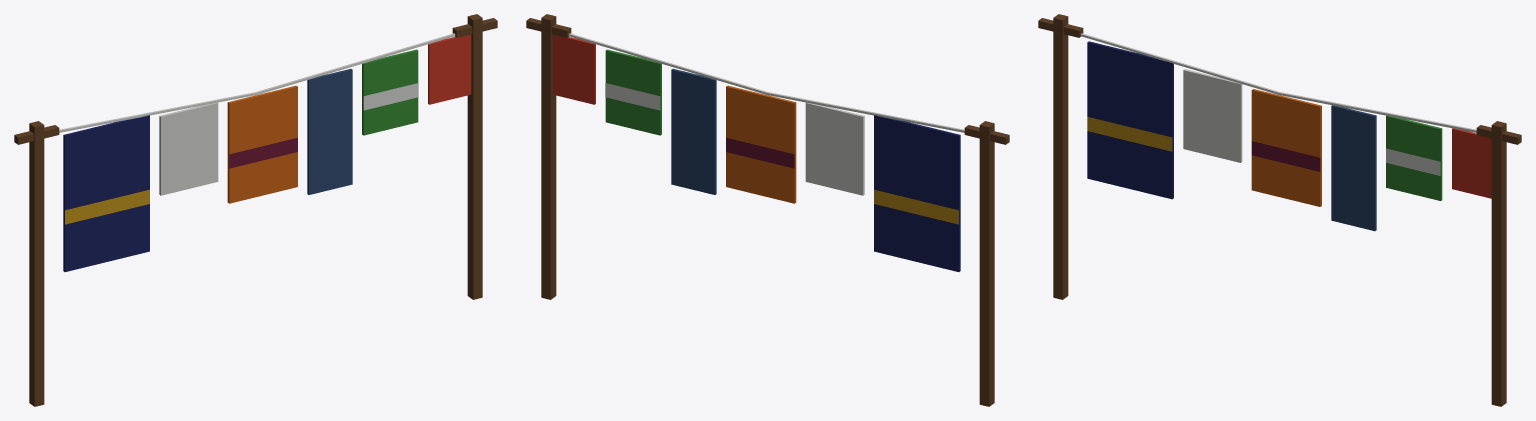
File: prop_clothes-line.glb
3 views of the same model, side by side, from view 1: azimuth 30°, elevation 25°; view 2: azimuth 150°, elevation 25°; view 3: azimuth 330°, elevation 25° (orthographic).
Visible parts, largest first — view 1: body; view 2: body; view 3: body.
Boxes of the visible parts, x1=… form: body: x1=14, y1=14, x2=497, y2=406; body: x1=526, y1=14, x2=1009, y2=406; body: x1=1038, y1=14, x2=1521, y2=406.
Size of the model in its own units: 3.5 by 1.95 by 0.07.
